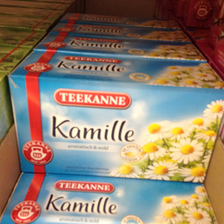tea: (9, 51, 223, 184)
